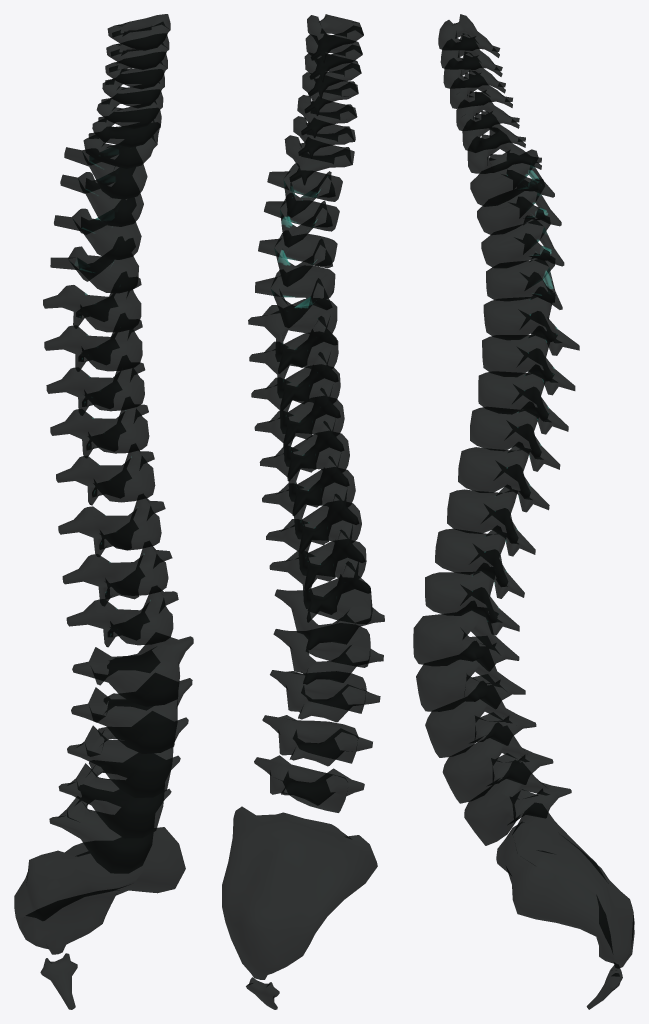
Rendered from spine.glb.
3 renders of one model, left to right at view 1: azimuth 30°, elevation 25°; view 2: azimuth 150°, elevation 25°; view 3: azimuth 270°, elevation 25°, orthographic. The views are drawn at different scales.
Visible parts, largest first — view 1: Coccyx; view 2: Coccyx; view 3: Coccyx.
Boxes of the visible parts, x1,y1,x2,y2 form: Coccyx: (14,14,193,1009); Coccyx: (222,14,384,1009); Coccyx: (413,14,634,1009).
Bounding box in the file's own units: 1.43 × 9.26 × 1.89.
1 material, 1 textured.
